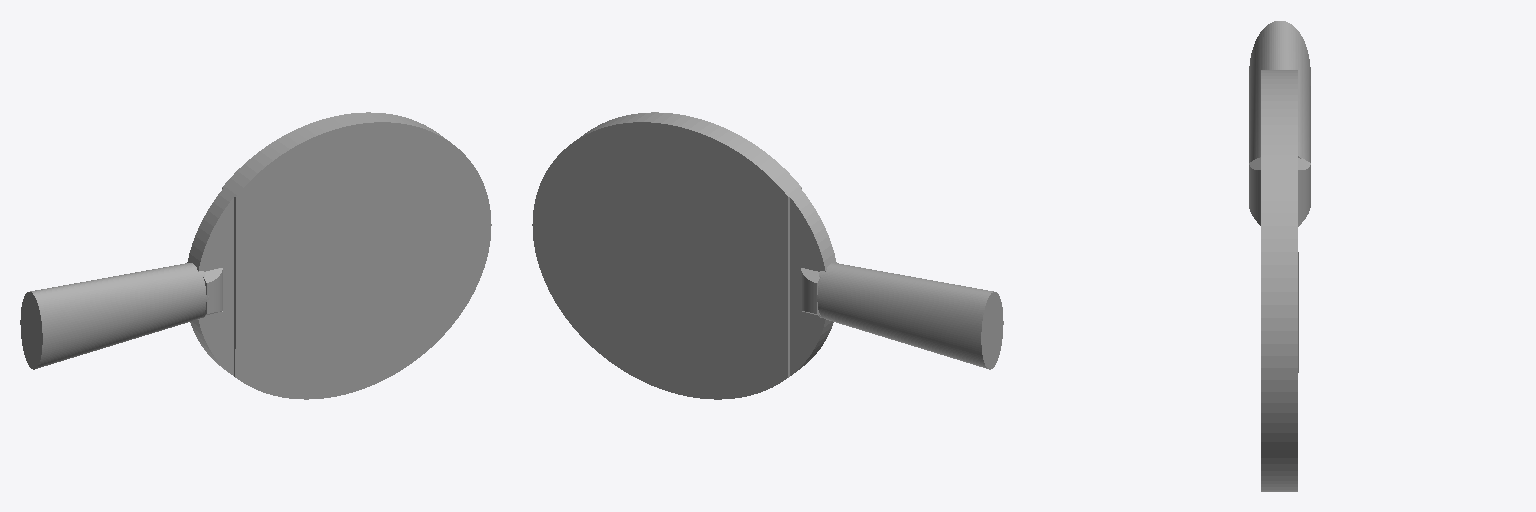
URDF robot description (g1_dual_arm):
<robot name="g1_dual_arm">
  <material name="dark">
    <color rgba="0.2 0.2 0.2 1"/>
  </material>
  <material name="white">
    <color rgba="0.7 0.7 0.7 1"/>
  </material>

  <mujoco>
    <compiler meshdir="meshes" discardvisual="false"/>
  </mujoco>

  <!-- [CAUTION] uncomment when convert to mujoco -->
  <!-- <link name="world"></link>
  <joint name="floating_base_joint" type="floating">
    <parent link="world"/>
    <child link="waist_yaw_link"/>
  </joint> -->

  <!-- Torso -->
  <link name="waist_yaw_link">
    <inertial>
      <origin xyz="0.003964 0 0.018769" rpy="0 0 0"/>
      <mass value="0.244"/>
      <inertia ixx="9.9587E-05" ixy="-1.833E-06" ixz="-1.2617E-05" iyy="0.00012411" iyz="-1.18E-07" izz="0.00015586"/>
    </inertial>
    <visual>
      <origin xyz="0 0 0" rpy="0 0 0"/>
      <geometry>
        <mesh filename="package://g1_description/meshes/waist_yaw_link.STL"/>
      </geometry>
      <material name="white"/>
    </visual>
  </link>
  <link name="waist_roll_link">
    <inertial>
      <origin xyz="0 -0.000236 0.010111" rpy="0 0 0"/>
      <mass value="0.047"/>
      <inertia ixx="7.515E-06" ixy="0" ixz="0" iyy="6.398E-06" iyz="9.9E-08" izz="3.988E-06"/>
    </inertial>
    <visual>
      <origin xyz="0 0 0" rpy="0 0 0"/>
      <geometry>
        <mesh filename="package://g1_description/meshes/waist_roll_link.STL"/>
      </geometry>
      <material name="white"/>
    </visual>
  </link>
  <joint name="waist_roll_joint" type="fixed">
    <origin xyz="-0.0039635 0 0.035" rpy="0 0 0"/>
    <parent link="waist_yaw_link"/>
    <child link="waist_roll_link"/>
    <axis xyz="1 0 0"/>
    <limit lower="-0.52" upper="0.52" effort="35" velocity="30"/>
  </joint>
  <link name="torso_link">
    <inertial>
      <origin xyz="0.002601 0.000257 0.153719" rpy="0 0 0"/>
      <mass value="8.562"/>
      <inertia ixx="0.065674966" ixy="-8.597E-05" ixz="-0.001737252" iyy="0.053535188" iyz="8.6899E-05" izz="0.030808125"/>
    </inertial>
    <visual>
      <origin xyz="0 0 0" rpy="0 0 0"/>
      <geometry>
        <mesh filename="package://g1_description/meshes/torso_link.STL"/>
      </geometry>
      <material name="white"/>
    </visual>
    <collision>
      <origin xyz="0 0 0" rpy="0 0 0"/>
      <geometry>
        <mesh filename="package://g1_description/meshes/torso_link.STL"/>
      </geometry>
    </collision>
  </link>
  <joint name="waist_pitch_joint" type="fixed">
    <origin xyz="0 0 0.019" rpy="0 0 0"/>
    <parent link="waist_roll_link"/>
    <child link="torso_link"/>
    <axis xyz="0 1 0"/>
    <limit lower="-0.52" upper="0.52" effort="35" velocity="30"/>
  </joint>

  <!-- LOGO -->
  <joint name="logo_joint" type="fixed">
    <origin xyz="0.0039635 0 -0.054" rpy="0 0 0"/>
    <parent link="torso_link"/>
    <child link="logo_link"/>
  </joint>
  <link name="logo_link">
    <inertial>
      <origin xyz="0 0 0" rpy="0 0 0"/>
      <mass value="0.001"/>
      <inertia ixx="1e-7" ixy="0" ixz="0" iyy="1e-7" iyz="0" izz="1e-7"/>
    </inertial>
    <visual>
      <origin xyz="0 0 0" rpy="0 0 0"/>
      <geometry>
        <mesh filename="package://g1_description/meshes/logo_link.STL"/>
      </geometry>
      <material name="dark"/>
    </visual>
    <collision>
      <origin xyz="0 0 0" rpy="0 0 0"/>
      <geometry>
        <mesh filename="package://g1_description/meshes/logo_link.STL"/>
      </geometry>
    </collision>
  </link>

  <!-- Head -->
  <link name="head_link">
    <inertial>
      <origin xyz="0.005267 0.000299 0.449869" rpy="0 0 0"/>
      <mass value="1.036"/>
      <inertia ixx="0.004085051" ixy="-2.543E-06" ixz="-6.9455E-05" iyy="0.004185212" iyz="-3.726E-06" izz="0.001807911"/>
    </inertial>
    <visual>
      <origin xyz="0 0 0" rpy="0 0 0"/>
      <geometry>
        <mesh filename="package://g1_description/meshes/head_link.STL"/>
      </geometry>
      <material name="dark"/>
    </visual>
    <collision>
      <origin xyz="0 0 0" rpy="0 0 0"/>
      <geometry>
        <mesh filename="package://g1_description/meshes/head_link.STL"/>
      </geometry>
    </collision>
  </link>
  <joint name="head_joint" type="fixed">
    <origin xyz="0.0039635 0 -0.054" rpy="0 0 0"/>
    <parent link="torso_link"/>
    <child link="head_link"/>
  </joint>

  <!-- Waist Support -->
  <link name="waist_support_link">
    <inertial>
      <origin xyz="0 0 0" rpy="0 0 0"/>
      <mass value="0.001"/>
      <inertia ixx="1e-7" ixy="0" ixz="0" iyy="1e-7" iyz="0" izz="1e-7"/>
    </inertial>
    <visual>
      <origin xyz="0 0 0" rpy="0 0 0"/>
      <geometry>
        <mesh filename="package://g1_description/meshes/waist_support_link.STL"/>
      </geometry>
      <material name="white"/>
    </visual>
    <collision>
      <origin xyz="0 0 0" rpy="0 0 0"/>
      <geometry>
        <mesh filename="package://g1_description/meshes/waist_support_link.STL"/>
      </geometry>
    </collision>
  </link>
  <joint name="waist_support_joint" type="fixed">
    <origin xyz="0.0039635 0 -0.054" rpy="0 0 0"/>
    <parent link="torso_link"/>
    <child link="waist_support_link"/>
  </joint>

  <!-- IMU -->
  <link name="imu_in_torso"></link>
  <joint name="imu_in_torso_joint" type="fixed">
    <origin xyz="-0.03959 -0.00224 0.13792" rpy="0 0 0"/>
    <parent link="torso_link"/>
    <child link="imu_in_torso"/>
  </joint>

  <link name="imu_in_pelvis"></link>
  <joint name="imu_in_pelvis_joint" type="fixed">
    <origin xyz="0.04525 0 -0.08339" rpy="0 0 0"/>
    <parent link="waist_yaw_link"/>
    <child link="imu_in_pelvis"/>
  </joint>

  <!-- d435 -->
  <link name="d435_link"></link>
  <joint name="d435_joint" type="fixed">
    <origin xyz="0.0576235 0.01753 0.41987" rpy="0 0.8307767239493009 0"/>
    <parent link="torso_link"/>
    <child link="d435_link"/>
  </joint>

  <!-- mid360 -->
  <link name="mid360_link"></link>
  <joint name="mid360_joint" type="fixed">
    <origin xyz="0.0002835 0.00003 0.40618" rpy="0 0.04014257279586953 0"/>
    <parent link="torso_link"/>
    <child link="mid360_link"/>
  </joint>

  <!-- Arm -->
  <link name="left_shoulder_pitch_link">
    <inertial>
      <origin xyz="0 0.035892 -0.011628" rpy="0 0 0"/>
      <mass value="0.718"/>
      <inertia ixx="0.0004291" ixy="-9.2E-06" ixz="6.4E-06" iyy="0.000453" iyz="2.26E-05" izz="0.000423"/>
    </inertial>
    <visual>
      <origin xyz="0 0 0" rpy="0 0 0"/>
      <geometry>
        <mesh filename="package://g1_description/meshes/left_shoulder_pitch_link.STL"/>
      </geometry>
      <material name="white"/>
    </visual>
    <collision>
      <origin xyz="0 0.04 -0.01" rpy="0 1.5707963267948966 0"/>
      <geometry>
        <cylinder radius="0.03" length="0.05"/>
      </geometry>
    </collision>
  </link>
  <joint name="left_shoulder_pitch_joint" type="revolute">
    <origin xyz="0.0039563 0.10022 0.23778" rpy="0.27931 5.4949E-05 -0.00019159"/>
    <parent link="torso_link"/>
    <child link="left_shoulder_pitch_link"/>
    <axis xyz="0 1 0"/>
    <limit lower="-3.0892" upper="2.6704" effort="25" velocity="37"/>
  </joint>
  <link name="left_shoulder_roll_link">
    <inertial>
      <origin xyz="-0.000227 0.00727 -0.063243" rpy="0 0 0"/>
      <mass value="0.643"/>
      <inertia ixx="0.0006177" ixy="-1E-06" ixz="8.7E-06" iyy="0.0006912" iyz="-5.3E-06" izz="0.0003894"/>
    </inertial>
    <visual>
      <origin xyz="0 0 0" rpy="0 0 0"/>
      <geometry>
        <mesh filename="package://g1_description/meshes/left_shoulder_roll_link.STL"/>
      </geometry>
      <material name="white"/>
    </visual>
    <collision>
      <origin xyz="-0.004 0.006 -0.053" rpy="0 0 0"/>
      <geometry>
        <cylinder radius="0.03" length="0.03"/>
      </geometry>
    </collision>
  </link>
  <joint name="left_shoulder_roll_joint" type="revolute">
    <origin xyz="0 0.038 -0.013831" rpy="-0.27925 0 0"/>
    <parent link="left_shoulder_pitch_link"/>
    <child link="left_shoulder_roll_link"/>
    <axis xyz="1 0 0"/>
    <limit lower="-1.5882" upper="2.2515" effort="25" velocity="37"/>
  </joint>
  <link name="left_shoulder_yaw_link">
    <inertial>
      <origin xyz="0.010773 -0.002949 -0.072009" rpy="0 0 0"/>
      <mass value="0.734"/>
      <inertia ixx="0.0009988" ixy="7.9E-06" ixz="0.0001412" iyy="0.0010605" iyz="-2.86E-05" izz="0.0004354"/>
    </inertial>
    <visual>
      <origin xyz="0 0 0" rpy="0 0 0"/>
      <geometry>
        <mesh filename="package://g1_description/meshes/left_shoulder_yaw_link.STL"/>
      </geometry>
      <material name="white"/>
    </visual>
    <collision>
      <origin xyz="0 0 0" rpy="0 0 0"/>
      <geometry>
        <mesh filename="package://g1_description/meshes/left_shoulder_yaw_link.STL"/>
      </geometry>
    </collision>
  </link>
  <joint name="left_shoulder_yaw_joint" type="revolute">
    <origin xyz="0 0.00624 -0.1032" rpy="0 0 0"/>
    <parent link="left_shoulder_roll_link"/>
    <child link="left_shoulder_yaw_link"/>
    <axis xyz="0 0 1"/>
    <limit lower="-2.618" upper="2.618" effort="25" velocity="37"/>
  </joint>
  <link name="left_elbow_link">
    <inertial>
      <origin xyz="0.064956 0.004454 -0.010062" rpy="0 0 0"/>
      <mass value="0.6"/>
      <inertia ixx="0.0002891" ixy="6.53E-05" ixz="1.72E-05" iyy="0.0004152" iyz="-5.6E-06" izz="0.0004197"/>
    </inertial>
    <visual>
      <origin xyz="0 0 0" rpy="0 0 0"/>
      <geometry>
        <mesh filename="package://g1_description/meshes/left_elbow_link.STL"/>
      </geometry>
      <material name="white"/>
    </visual>
    <collision>
      <origin xyz="0 0 0" rpy="0 0 0"/>
      <geometry>
        <mesh filename="package://g1_description/meshes/left_elbow_link.STL"/>
      </geometry>
    </collision>
  </link>
  <joint name="left_elbow_joint" type="revolute">
    <origin xyz="0.015783 0 -0.080518" rpy="0 0 0"/>
    <parent link="left_shoulder_yaw_link"/>
    <child link="left_elbow_link"/>
    <axis xyz="0 1 0"/>
    <limit lower="-1.0472" upper="2.0944" effort="25" velocity="37"/>
  </joint>
  <joint name="left_wrist_roll_joint" type="revolute">
    <origin xyz="0.100 0.00188791 -0.010" rpy="0 0 0"/>
    <axis xyz="1 0 0"/>
    <parent link="left_elbow_link"/>
    <child link="left_wrist_roll_link"/>
    <limit effort="25" velocity="37" lower="-1.972222054" upper="1.972222054"/>
  </joint>
  <link name="left_wrist_roll_link">
    <inertial>
      <origin xyz="0.01713944778 0.00053759094 0.00000048864" rpy="0 0 0"/>
      <mass value="0.08544498"/>
      <inertia ixx="0.00004821544023" ixy="-0.00000424511021" ixz="0.00000000510599" iyy="0.00003722899093" iyz="-0.00000000123525" izz="0.00005482106541"/>
    </inertial>
    <visual>
      <origin xyz="0 0 0" rpy="0 0 0"/>
      <geometry>
        <mesh filename="package://g1_description/meshes/left_wrist_roll_link.STL"/>
      </geometry>
      <material name="white"/>
    </visual>
    <collision>
      <origin xyz="0 0 0" rpy="0 0 0"/>
      <geometry>
        <mesh filename="package://g1_description/meshes/left_wrist_roll_link.STL"/>
      </geometry>
    </collision>
  </link>
  <joint name="left_wrist_pitch_joint" type="revolute">
    <origin xyz="0.038 0 0" rpy="0 0 0"/>
    <axis xyz="0 1 0"/>
    <parent link="left_wrist_roll_link"/>
    <child link="left_wrist_pitch_link"/>
    <limit effort="5" velocity="22" lower="-1.614429558" upper="1.614429558"/>
  </joint>
  <link name="left_wrist_pitch_link">
    <inertial>
      <origin xyz="0.02299989837 -0.00111685314 -0.00111658096" rpy="0 0 0"/>
      <mass value="0.48404956"/>
      <inertia ixx="0.00016579646273" ixy="-0.00001231206746" ixz="0.00001231699194" iyy="0.00042954057410" iyz="0.00000081417712" izz="0.00042953697654"/>
    </inertial>
    <visual>
      <origin xyz="0 0 0" rpy="0 0 0"/>
      <geometry>
        <mesh filename="package://g1_description/meshes/left_wrist_pitch_link.STL"/>
      </geometry>
      <material name="white"/>
    </visual>
    <collision>
      <origin xyz="0 0 0" rpy="0 0 0"/>
      <geometry>
        <mesh filename="package://g1_description/meshes/left_wrist_pitch_link.STL"/>
      </geometry>
    </collision>
  </link>
  <joint name="left_wrist_yaw_joint" type="revolute">
    <origin xyz="0.046 0 0" rpy="0 0 0"/>
    <axis xyz="0 0 1"/>
    <parent link="left_wrist_pitch_link"/>
    <child link="left_wrist_yaw_link"/>
    <limit effort="5" velocity="22" lower="-1.614429558" upper="1.614429558"/>
  </joint>
  <link name="left_wrist_yaw_link">
    <inertial>
      <origin xyz="0.02200381568 0.00049485096 0.00053861123" rpy="0 0 0"/>
      <mass value="0.08457647"/>
      <inertia ixx="0.00004929128828" ixy="-0.00000045735494" ixz="0.00000445867591" iyy="0.00005973338134" iyz="0.00000043217198" izz="0.00003928083826"/>
    </inertial>
    <visual>
      <origin xyz="0 0 0" rpy="0 0 0"/>
      <geometry>
        <mesh filename="package://g1_description/meshes/left_wrist_yaw_link.STL"/>
      </geometry>
      <material name="white"/>
    </visual>
    <collision>
      <origin xyz="0 0 0" rpy="0 0 0"/>
      <geometry>
        <mesh filename="package://g1_description/meshes/left_wrist_yaw_link.STL"/>
      </geometry>
    </collision>
  </link>
  <joint name="left_hand_palm_joint" type="fixed">
    <origin xyz="0.0415 0.003 0" rpy="0 0 0"/>
    <parent link="left_wrist_yaw_link"/>
    <child link="left_rubber_hand"/>
  </joint>
  <link name="left_rubber_hand">
    <inertial>
      <origin xyz="0.05361310808 -0.00295905240 0.00215413091" rpy="0 0 0"/>
      <mass value="0.170"/>
      <inertia ixx="0.00010099485234748" ixy="0.00003618590790516" ixz="-0.00000074301518642" iyy="0.00028135871571621" iyz="0.00000330189743286" izz="0.00021894770413514"/>
    </inertial>
    <visual>
      <origin xyz="0 0 0" rpy="0 0 0"/>
      <geometry>
        <mesh filename="package://g1_description/meshes/left_rubber_hand.STL"/>
      </geometry>
      <material name="white"/>
    </visual>
  </link>
    <joint name="left_paddle_joint" type="fixed">
    <!-- Pose of paddle frame relative to left_rubber_hand -->
    <origin xyz="0.25 0.0 0.0" rpy="0 1.5707963 -1.5707963"/>
    <parent link="left_rubber_hand"/>
    <child link="left_paddle_link"/>
  </joint>

  <link name="left_paddle_link">
    <inertial>
      <origin xyz="0 0 0" rpy="0 0 0"/>
      <mass value="0.2"/>
      <inertia ixx="1e-4" ixy="0" ixz="0" iyy="1e-4" iyz="0" izz="1e-4"/>
    </inertial>

    <visual>
      <origin xyz="0 0 0" rpy="0 0 0"/>
      <geometry>
        <mesh
          filename="package://g1_description/meshes/left_paddle.STL"
          scale="2e-3 2e-3 2e-3" />
      </geometry>
      <material name="white"/>
    </visual>

    <collision>
      <origin xyz="0 0 0" rpy="0 0 0"/>
      <geometry>
        <!-- Option 1: reuse the mesh -->
        <mesh filename="package://g1_description/meshes/left_paddle.STL" scale="2e-3 2e-3 2e-3"/>
      </geometry>
    </collision>
  </link>


  <link name="right_shoulder_pitch_link">
    <inertial>
      <origin xyz="0 -0.035892 -0.011628" rpy="0 0 0"/>
      <mass value="0.718"/>
      <inertia ixx="0.0004291" ixy="9.2E-06" ixz="6.4E-06" iyy="0.000453" iyz="-2.26E-05" izz="0.000423"/>
    </inertial>
    <visual>
      <origin xyz="0 0 0" rpy="0 0 0"/>
      <geometry>
        <mesh filename="package://g1_description/meshes/right_shoulder_pitch_link.STL"/>
      </geometry>
      <material name="white"/>
    </visual>
    <collision>
      <origin xyz="0 -0.04 -0.01" rpy="0 1.5707963267948966 0"/>
      <geometry>
        <cylinder radius="0.03" length="0.05"/>
      </geometry>
    </collision>
  </link>
  <joint name="right_shoulder_pitch_joint" type="revolute">
    <origin xyz="0.0039563 -0.10021 0.23778" rpy="-0.27931 5.4949E-05 0.00019159"/>
    <parent link="torso_link"/>
    <child link="right_shoulder_pitch_link"/>
    <axis xyz="0 1 0"/>
    <limit lower="-3.0892" upper="2.6704" effort="25" velocity="37"/>
  </joint>
  <link name="right_shoulder_roll_link">
    <inertial>
      <origin xyz="-0.000227 -0.00727 -0.063243" rpy="0 0 0"/>
      <mass value="0.643"/>
      <inertia ixx="0.0006177" ixy="1E-06" ixz="8.7E-06" iyy="0.0006912" iyz="5.3E-06" izz="0.0003894"/>
    </inertial>
    <visual>
      <origin xyz="0 0 0" rpy="0 0 0"/>
      <geometry>
        <mesh filename="package://g1_description/meshes/right_shoulder_roll_link.STL"/>
      </geometry>
      <material name="white"/>
    </visual>
    <collision>
      <origin xyz="-0.004 -0.006 -0.053" rpy="0 0 0"/>
      <geometry>
        <cylinder radius="0.03" length="0.03"/>
      </geometry>
    </collision>
  </link>
  <joint name="right_shoulder_roll_joint" type="revolute">
    <origin xyz="0 -0.038 -0.013831" rpy="0.27925 0 0"/>
    <parent link="right_shoulder_pitch_link"/>
    <child link="right_shoulder_roll_link"/>
    <axis xyz="1 0 0"/>
    <limit lower="-2.2515" upper="1.5882" effort="25" velocity="37"/>
  </joint>
  <link name="right_shoulder_yaw_link">
    <inertial>
      <origin xyz="0.010773 0.002949 -0.072009" rpy="0 0 0"/>
      <mass value="0.734"/>
      <inertia ixx="0.0009988" ixy="-7.9E-06" ixz="0.0001412" iyy="0.0010605" iyz="2.86E-05" izz="0.0004354"/>
    </inertial>
    <visual>
      <origin xyz="0 0 0" rpy="0 0 0"/>
      <geometry>
        <mesh filename="package://g1_description/meshes/right_shoulder_yaw_link.STL"/>
      </geometry>
      <material name="white"/>
    </visual>
    <collision>
      <origin xyz="0 0 0" rpy="0 0 0"/>
      <geometry>
        <mesh filename="package://g1_description/meshes/right_shoulder_yaw_link.STL"/>
      </geometry>
    </collision>
  </link>
  <joint name="right_shoulder_yaw_joint" type="revolute">
    <origin xyz="0 -0.00624 -0.1032" rpy="0 0 0"/>
    <parent link="right_shoulder_roll_link"/>
    <child link="right_shoulder_yaw_link"/>
    <axis xyz="0 0 1"/>
    <limit lower="-2.618" upper="2.618" effort="25" velocity="37"/>
  </joint>
  <link name="right_elbow_link">
    <inertial>
      <origin xyz="0.064956 -0.004454 -0.010062" rpy="0 0 0"/>
      <mass value="0.6"/>
      <inertia ixx="0.0002891" ixy="-6.53E-05" ixz="1.72E-05" iyy="0.0004152" iyz="5.6E-06" izz="0.0004197"/>
    </inertial>
    <visual>
      <origin xyz="0 0 0" rpy="0 0 0"/>
      <geometry>
        <mesh filename="package://g1_description/meshes/right_elbow_link.STL"/>
      </geometry>
      <material name="white"/>
    </visual>
    <collision>
      <origin xyz="0 0 0" rpy="0 0 0"/>
      <geometry>
        <mesh filename="package://g1_description/meshes/right_elbow_link.STL"/>
      </geometry>
    </collision>
  </link>
  <joint name="right_elbow_joint" type="revolute">
    <origin xyz="0.015783 0 -0.080518" rpy="0 0 0"/>
    <parent link="right_shoulder_yaw_link"/>
    <child link="right_elbow_link"/>
    <axis xyz="0 1 0"/>
    <limit lower="-1.0472" upper="2.0944" effort="25" velocity="37"/>
  </joint>
  <joint name="right_wrist_roll_joint" type="revolute">
    <origin xyz="0.100 -0.00188791 -0.010" rpy="0 0 0"/>
    <axis xyz="1 0 0"/>
    <parent link="right_elbow_link"/>
    <child link="right_wrist_roll_link"/>
    <limit effort="25" velocity="37" lower="-1.972222054" upper="1.972222054"/>
  </joint>
  <link name="right_wrist_roll_link">
    <inertial>
      <origin xyz="0.01713944778 -0.00053759094 0.00000048864" rpy="0 0 0"/>
      <mass value="0.08544498"/>
      <inertia ixx="0.00004821544023" ixy="0.00000424511021" ixz="0.00000000510599" iyy="0.00003722899093" iyz="0.00000000123525" izz="0.00005482106541"/>
    </inertial>
    <visual>
      <origin xyz="0 0 0" rpy="0 0 0"/>
      <geometry>
        <mesh filename="package://g1_description/meshes/right_wrist_roll_link.STL"/>
      </geometry>
      <material name="white"/>
    </visual>
    <collision>
      <origin xyz="0 0 0" rpy="0 0 0"/>
      <geometry>
        <mesh filename="package://g1_description/meshes/right_wrist_roll_link.STL"/>
      </geometry>
    </collision>
  </link>
  <joint name="right_wrist_pitch_joint" type="revolute">
    <origin xyz="0.038 0 0" rpy="0 0 0"/>
    <axis xyz="0 1 0"/>
    <parent link="right_wrist_roll_link"/>
    <child link="right_wrist_pitch_link"/>
    <limit effort="5" velocity="22" lower="-1.614429558" upper="1.614429558"/>
  </joint>
  <link name="right_wrist_pitch_link">
    <inertial>
      <origin xyz="0.02299989837 0.00111685314 -0.00111658096" rpy="0 0 0"/>
      <mass value="0.48404956"/>
      <inertia ixx="0.00016579646273" ixy="0.00001231206746" ixz="0.00001231699194" iyy="0.00042954057410" iyz="-0.00000081417712" izz="0.00042953697654"/>
    </inertial>
    <visual>
      <origin xyz="0 0 0" rpy="0 0 0"/>
      <geometry>
        <mesh filename="package://g1_description/meshes/right_wrist_pitch_link.STL"/>
      </geometry>
      <material name="white"/>
    </visual>
    <collision>
      <origin xyz="0 0 0" rpy="0 0 0"/>
      <geometry>
        <mesh filename="package://g1_description/meshes/right_wrist_pitch_link.STL"/>
      </geometry>
    </collision>
  </link>
  <joint name="right_wrist_yaw_joint" type="revolute">
    <origin xyz="0.046 0 0" rpy="0 0 0"/>
    <axis xyz="0 0 1"/>
    <parent link="right_wrist_pitch_link"/>
    <child link="right_wrist_yaw_link"/>
    <limit effort="5" velocity="22" lower="-1.614429558" upper="1.614429558"/>
  </joint>
  <link name="right_wrist_yaw_link">
    <inertial>
      <origin xyz="0.02200381568 -0.00049485096 0.00053861123" rpy="0 0 0"/>
      <mass value="0.08457647"/>
      <inertia ixx="0.00004929128828" ixy="0.00000045735494" ixz="0.00000445867591" iyy="0.00005973338134" iyz="-0.00000043217198" izz="0.00003928083826"/>
    </inertial>
    <visual>
      <origin xyz="0 0 0" rpy="0 0 0"/>
      <geometry>
        <mesh filename="package://g1_description/meshes/right_wrist_yaw_link.STL"/>
      </geometry>
      <material name="white"/>
    </visual>
    <collision>
      <origin xyz="0 0 0" rpy="0 0 0"/>
      <geometry>
        <mesh filename="package://g1_description/meshes/right_wrist_yaw_link.STL"/>
      </geometry>
    </collision>
  </link>
  <joint name="right_hand_palm_joint" type="fixed">
    <origin xyz="0.0415 -0.003 0" rpy="0 0 0"/>
    <parent link="right_wrist_yaw_link"/>
    <child link="right_rubber_hand"/>
  </joint>
  <link name="right_rubber_hand">
    <inertial>
      <origin xyz="0.05361310808 0.00295905240 0.00215413091" rpy="0 0 0"/>
      <mass value="0.170"/>
      <inertia ixx="0.00010099485234748" ixy="-0.00003618590790516" ixz="-0.00000074301518642" iyy="0.00028135871571621" iyz="-0.00000330189743286" izz="0.00021894770413514"/>
    </inertial>
    <visual>
      <origin xyz="0 0 0" rpy="0 0 0"/>
      <geometry>
        <mesh filename="package://g1_description/meshes/right_rubber_hand.STL"/>
      </geometry>
      <material name="white"/>
    </visual>
  </link>
</robot>

--- What the picture shows (computed from the rendered views, not written in the file) ---
The picture shows the robot from 3 angles, left to right: view 1: azimuth 30°, elevation 25°; view 2: azimuth 150°, elevation 25°; view 3: azimuth 270°, elevation 25°; orthographic projection.
Model g1_dual_arm with 27 links and 26 joints (14 revolute, 12 fixed), rooted at waist_yaw_link, posed all joints at 0.
Links seen in each view (by area): view 1: left_paddle_link; view 2: left_paddle_link; view 3: left_paddle_link.
Link boxes in pixels (x1,y1,x2,y2): left_paddle_link: (20,112,491,399); left_paddle_link: (532,112,1003,399); left_paddle_link: (1249,21,1310,491).
Size in the robot's own frame: 0.2278 by 0.0193 by 0.1287 metres.
Meshes: 23 distinct files referenced, 1 mesh visuals loaded (1 binary STL); not drawn: 22 (reference not matched to a file when rendering).